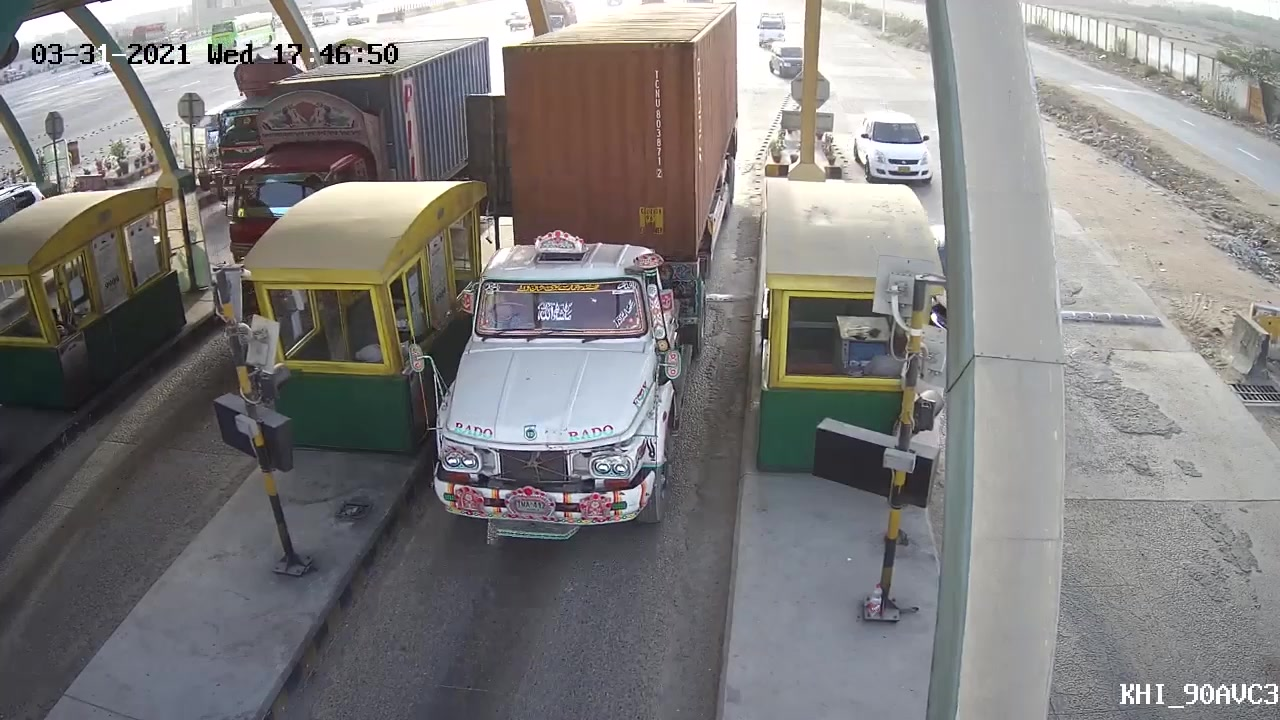F6: (417, 1, 749, 536)
